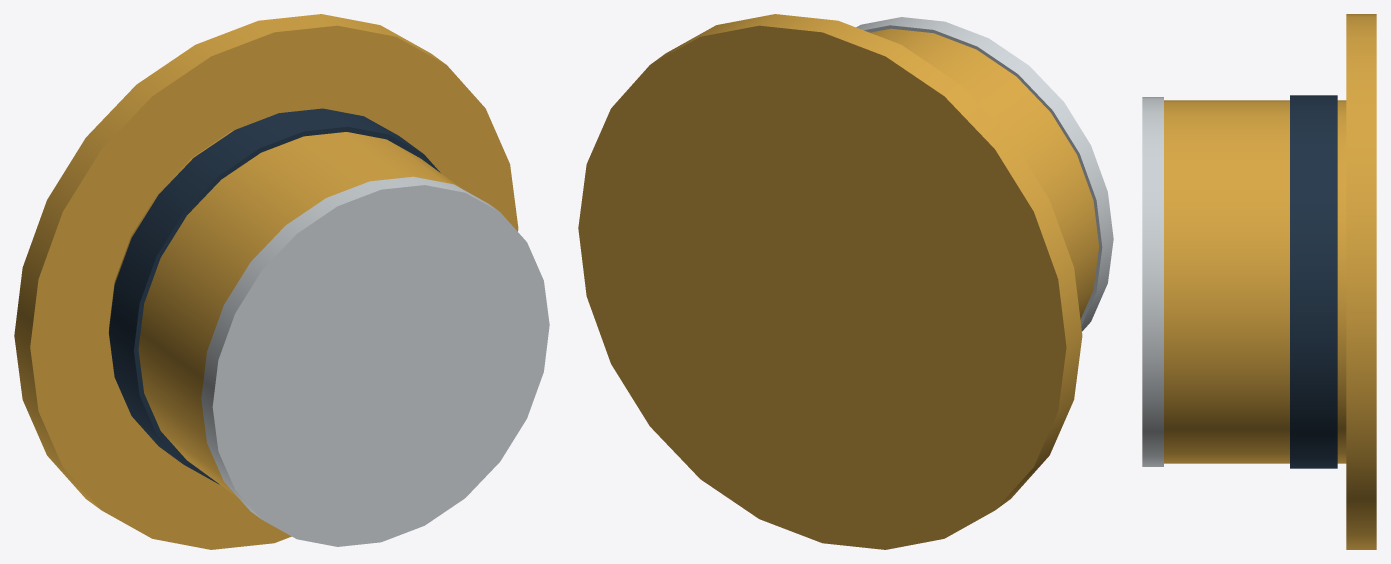
Rendered from hat.glb.
3 views of the same model, side by side, from view 1: azimuth 30°, elevation 25°; view 2: azimuth 150°, elevation 25°; view 3: azimuth 270°, elevation 25° (orthographic). The views are drawn at different scales.
Visible parts, largest first — view 1: Original resource top hat; view 2: Original resource top hat; view 3: Original resource top hat.
Part boxes in pixels (x1=…): Original resource top hat: x1=14, y1=14, x2=549, y2=549; Original resource top hat: x1=578, y1=14, x2=1113, y2=549; Original resource top hat: x1=1142, y1=14, x2=1376, y2=549.
Size of the model in its own units: 0.62 by 0.62 by 0.27.
